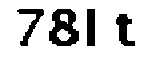7: (13, 6, 46, 49)
8: (49, 5, 82, 49)
I: (85, 7, 99, 51)
t: (112, 10, 138, 52)
